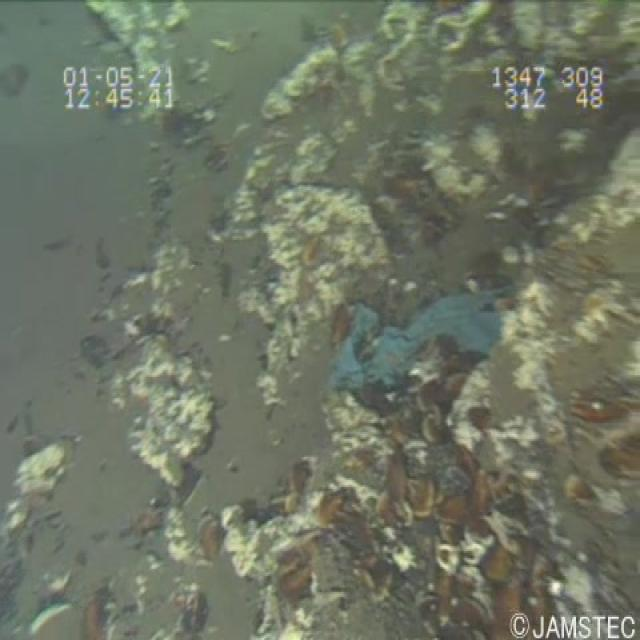plastic: (317, 283, 528, 393)
